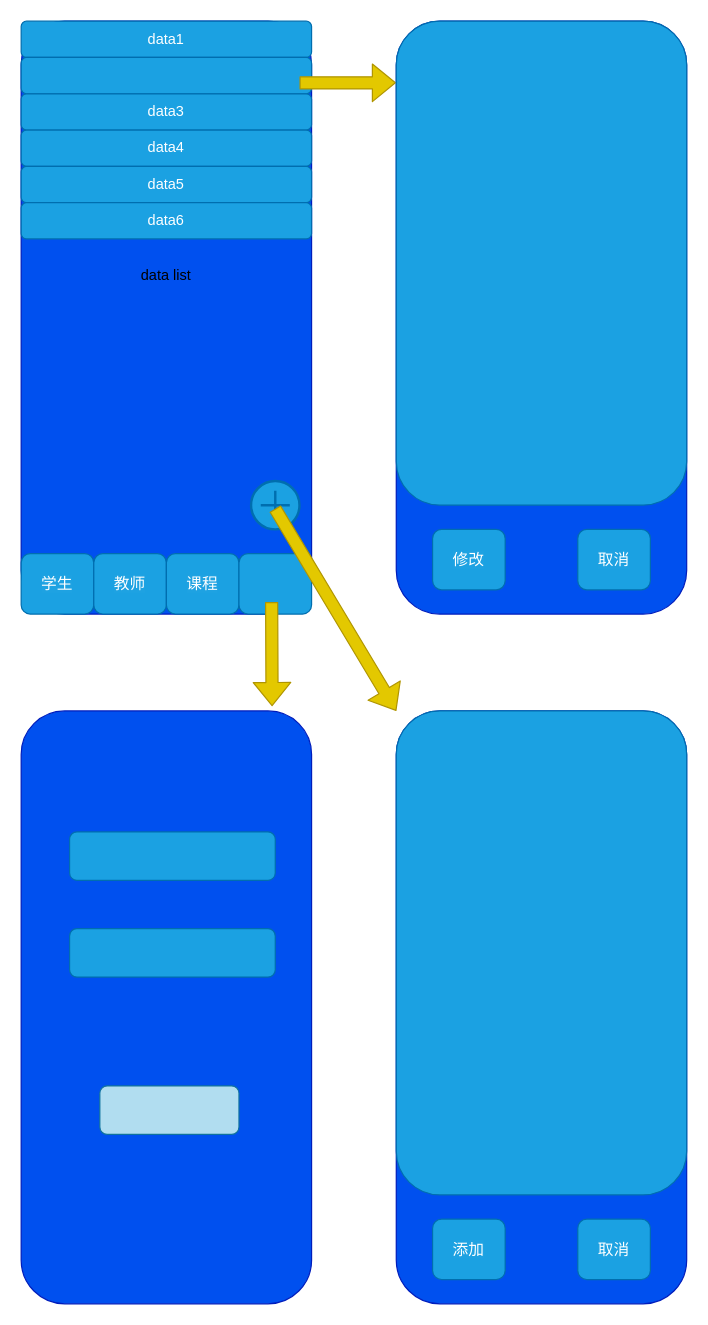
This 708x1325 diagram has some shape labels left out. The centre of each missing label's shape, as x and y in pixels:
"data2" goes at pixel 166 75.
"data2 form" goes at pixel 541 262.
"login" goes at pixel 169 1109.
"new form" goes at pixel 541 952.
"我的" goes at pixel 275 583.
